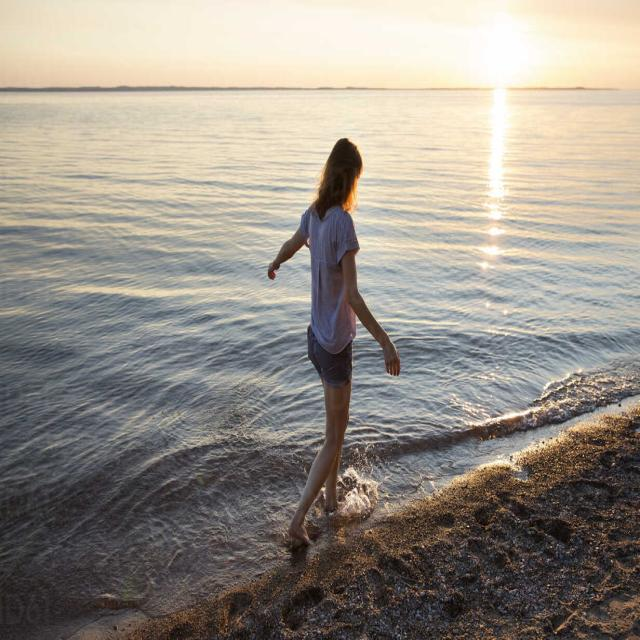Person: (268, 138, 401, 546)
